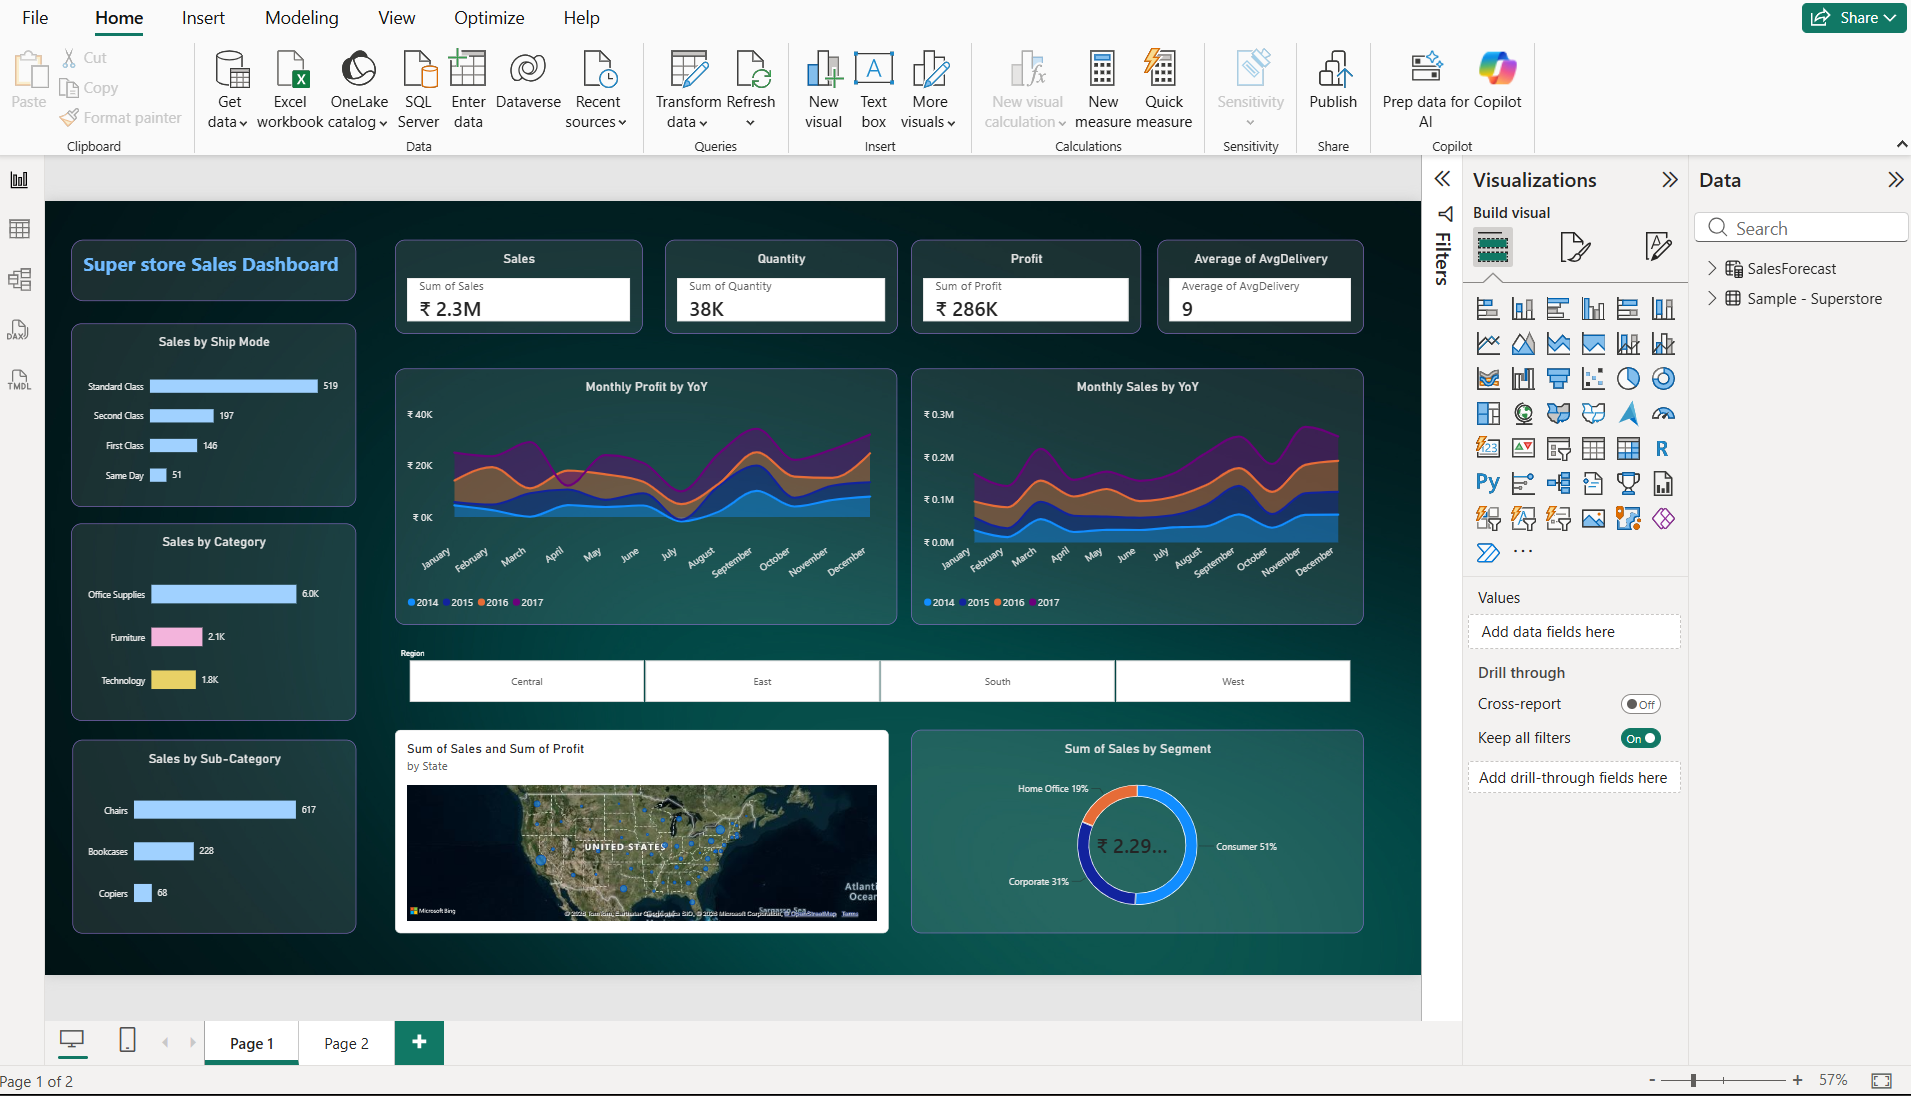

The page's visual inventory and layout, read from the dashboard file:
{"tool":"powerbi","page":{"name":"Page 1","canvas":[1920,1080],"ordinal":0},"visuals":[{"type":"clusteredBarChart","title":"Sales by Category","fields":{"Category":["Sample - Superstore.Category"],"Y":["CountNonNull(Sample - Superstore.Sales)"]},"box":[36.6,450,397.7,275.6],"z":0},{"type":"clusteredBarChart","title":"Sales by Sub-Category","fields":{"Y":["CountNonNull(Sample - Superstore.Sales)"],"Category":["Sample - Superstore.Sub-Category"]},"box":[38.4,751.7,395.9,270.3],"z":1000},{"type":"clusteredBarChart","title":"Sales by Ship Mode","fields":{"Y":["CountNonNull(Sample - Superstore.Sales)"],"Category":["Sample - Superstore.Ship Mode"]},"box":[36.6,170.9,397.7,256.4],"z":2000},{"type":"stackedAreaChart","title":" Monthly Sales by YoY","fields":{"Series":["Sample - Superstore.Order Date.Variation.Date Hierarchy.Year"],"Category":["Sample - Superstore.Order Date.Variation.Date Hierarchy.Month","Sample - Superstore.Order Date.Variation.Date Hierarchy.Day"],"Y":["Sum(Sample - Superstore.Sales)"]},"box":[1208.7,233.7,631.4,357.6],"z":3000},{"type":"stackedAreaChart","title":" Monthly Profit by YoY","fields":{"Series":["Sample - Superstore.Order Date.Variation.Date Hierarchy.Year"],"Category":["Sample - Superstore.Order Date.Variation.Date Hierarchy.Month","Sample - Superstore.Order Date.Variation.Date Hierarchy.Day"],"Y":["Sum(Sample - Superstore.Profit)"]},"box":[488.4,233.7,701.2,357.6],"z":4000},{"type":"map","fields":{"Category":["Sample - Superstore.State"],"Size":["Sum(Sample - Superstore.Sales)"]},"box":[488.4,737.8,689,284.3],"z":5000},{"type":"donutChart","fields":{"Category":["Sample - Superstore.Segment"],"Y":["Sum(Sample - Superstore.Sales)"]},"box":[1208.7,737.8,631.4,284.3],"z":6000},{"type":"slicer","fields":{"Values":["Sample - Superstore.Region"]},"box":[488.4,624.4,1351.7,76.7],"z":7000},{"type":"textbox","box":[36.6,54.1,397.7,85.5],"z":8000},{"type":"cardVisual","title":"Sales","fields":{"Data":["Sum(Sample - Superstore.Sales)"]},"box":[488.4,54.1,345.3,130.8],"z":9000},{"type":"cardVisual","title":"Profit","fields":{"Data":["Sum(Sample - Superstore.Profit)"]},"box":[1208.7,54.1,320.9,130.8],"z":10000},{"type":"cardVisual","title":"Quantity","fields":{"Data":["Sum(Sample - Superstore.Quantity)"]},"box":[865.1,54.1,324.4,130.8],"z":11000},{"type":"cardVisual","title":"Average of AvgDelivery","fields":{"Data":["Avg(Sample - Superstore.AvgDelivery)"]},"box":[1552.3,54.1,287.8,130.8],"z":12000}]}

Visuals, with their boxes on the page's 1920x1080 design canvas (x1, y1, x2, y2). These are canvas units, not pixel positions in the 1911x1096 screenshot, which may show the page scaled, cropped or inside an application window:
"Sales by Category" clusteredBarChart: 37/450/434/726
"Sales by Sub-Category" clusteredBarChart: 38/752/434/1022
"Sales by Ship Mode" clusteredBarChart: 37/171/434/427
" Monthly Sales by YoY" stackedAreaChart: 1209/234/1840/591
" Monthly Profit by YoY" stackedAreaChart: 488/234/1190/591
map - Sample - Superstore.State x Sum(Sample - Superstore.Sales): 488/738/1177/1022
donutChart - Sample - Superstore.Segment x Sum(Sample - Superstore.Sales): 1209/738/1840/1022
slicer - Sample - Superstore.Region: 488/624/1840/701
textbox: 37/54/434/140
"Sales" cardVisual: 488/54/834/185
"Profit" cardVisual: 1209/54/1530/185
"Quantity" cardVisual: 865/54/1190/185
"Average of AvgDelivery" cardVisual: 1552/54/1840/185
